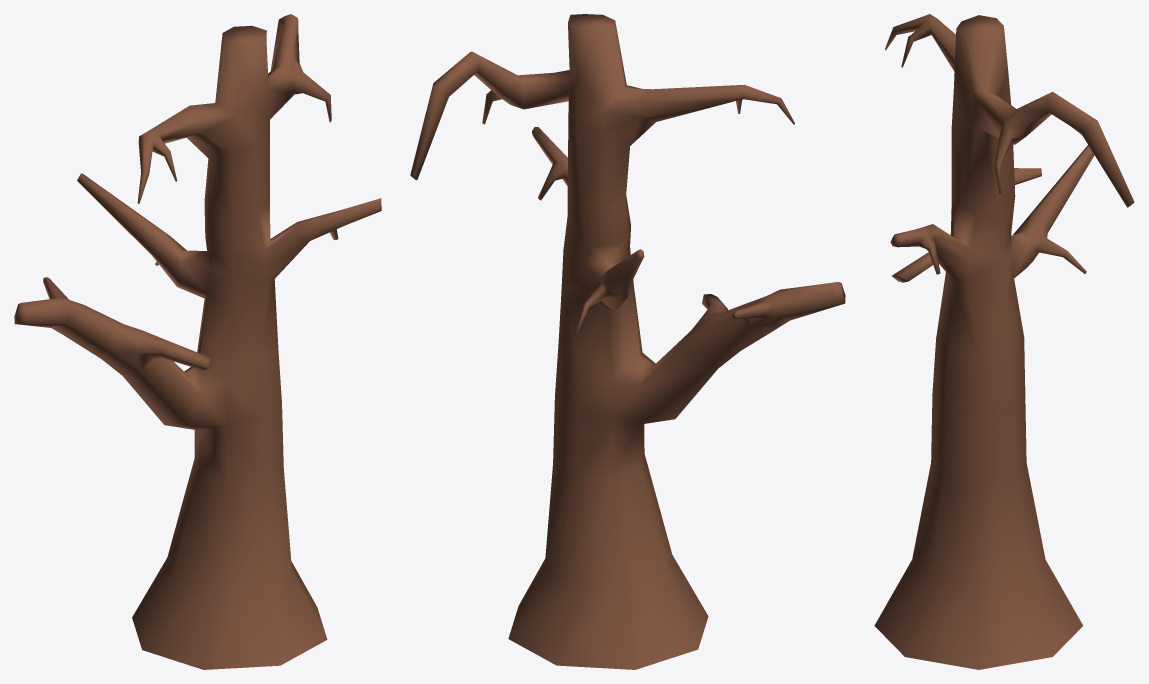
File: Arvore_6.fbx
The picture shows the model from 3 angles, left to right: view 1: azimuth 30°, elevation 25°; view 2: azimuth 150°, elevation 25°; view 3: azimuth 270°, elevation 25°; orthographic projection. The views are drawn at different scales.
Visible parts, largest first — view 1: Arvore_6; view 2: Arvore_6; view 3: Arvore_6.
Boxes of the visible parts, x1=… form: Arvore_6: x1=14, y1=14, x2=381, y2=669; Arvore_6: x1=410, y1=14, x2=845, y2=669; Arvore_6: x1=874, y1=14, x2=1134, y2=669.
Bounding box in the file's own units: 2.49 × 3.91 × 6.42.
